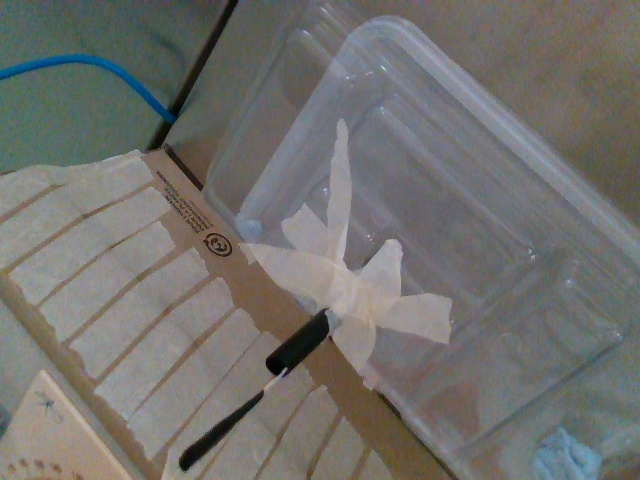test_strip: (178, 367, 284, 472)
